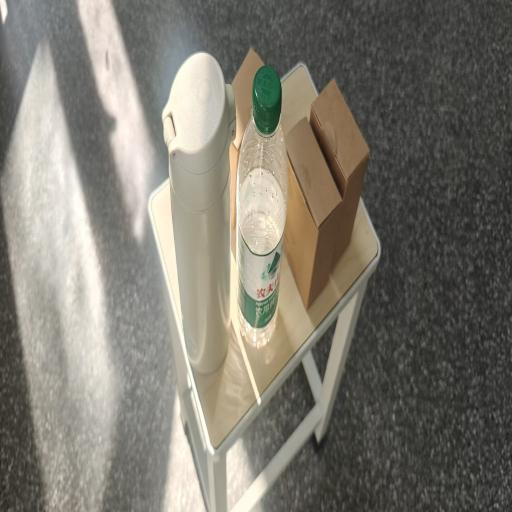bottle: (162, 52, 236, 373), (236, 65, 289, 349)
box: (310, 78, 370, 267), (284, 118, 342, 309), (230, 49, 264, 259)
